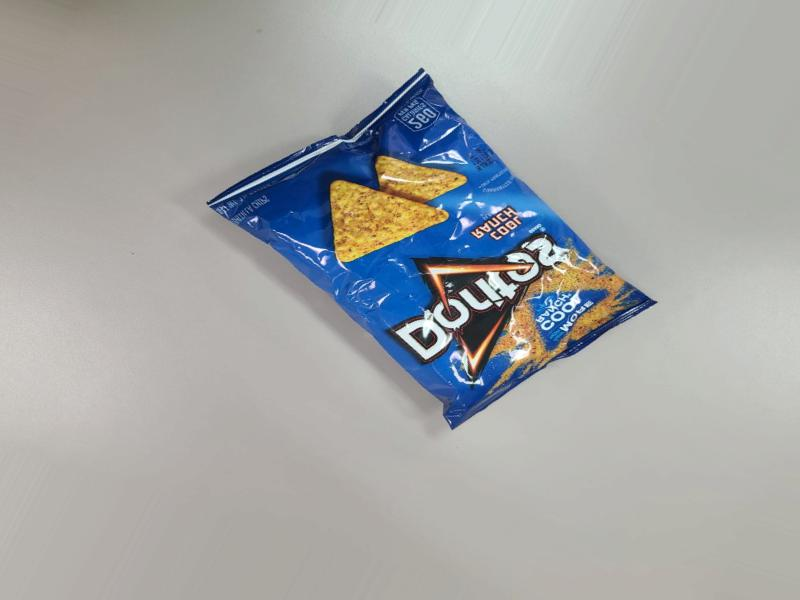doritos: (216, 73, 652, 440)
